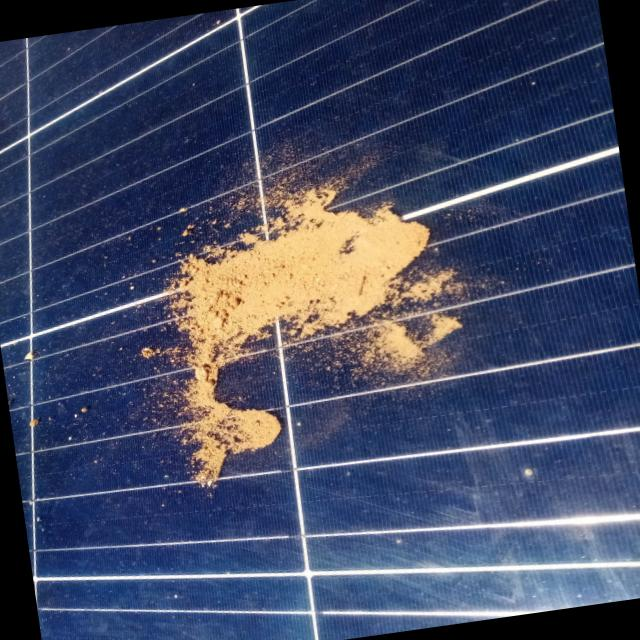faulty: (17, 67, 548, 538)
